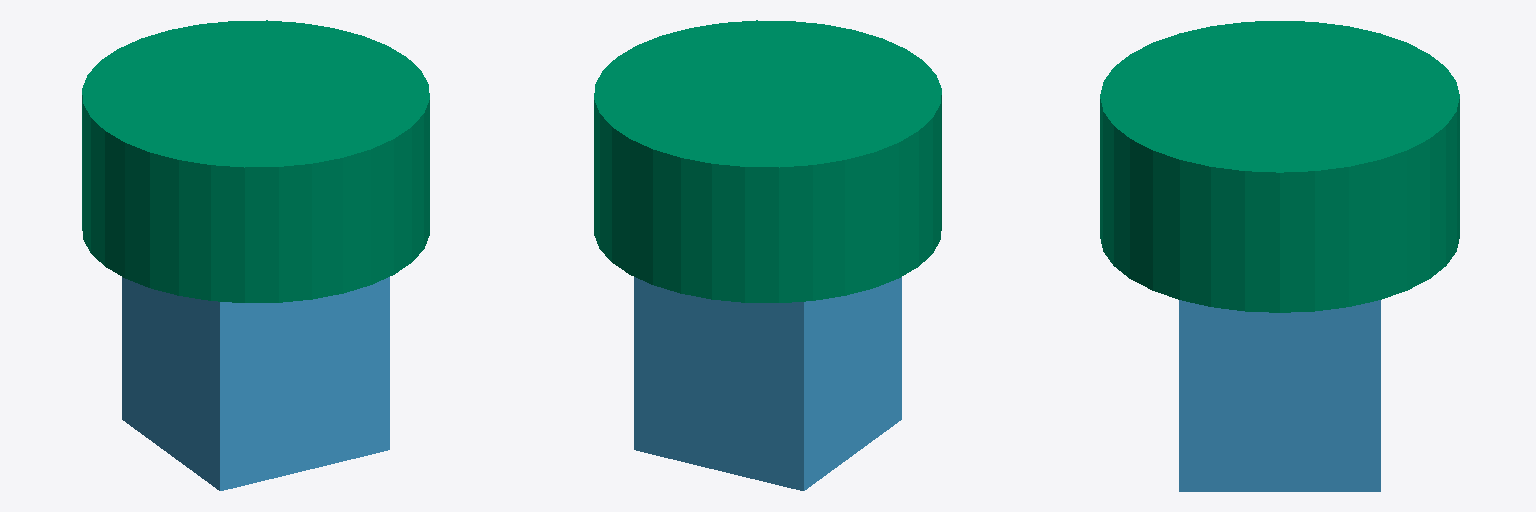
The robot description file, URDF, robot "candidate-1":
<?xml version="1.0"?>
<!-- 由 freecad-ai-parts 生成（ADR-0035）：长度单位 m，角度单位 rad；未写 inertial（无整件惯性数据） -->
<robot name="candidate-1">
  <link name="base"/>
  <!-- motor: servo_motor.yaskawa-electric-corporation.sgm7j-02a-6（Yaskawa Electric Corporation SGM7J-02A（轴端代码 6））；质量 0.8 kg -->
  <link name="motor">
    <visual><origin xyz="0.0 0.0 -0.03475" rpy="0.0 0.0 0.0"/><geometry><box size="0.06 0.06 0.0695"/></geometry></visual>
    <collision><origin xyz="0.0 0.0 -0.03475" rpy="0.0 0.0 0.0"/><geometry><box size="0.06 0.06 0.0695"/></geometry></collision>
    <visual><origin xyz="0.0 0.0 0.015" rpy="0.0 0.0 0.0"/><geometry><cylinder radius="0.007" length="0.03"/></geometry></visual>
    <collision><origin xyz="0.0 0.0 0.015" rpy="0.0 0.0 0.0"/><geometry><cylinder radius="0.007" length="0.03"/></geometry></collision>
  </link>
  <joint name="motor_mount" type="fixed"><parent link="base"/><child link="motor"/><origin xyz="0.0 0.0 0.0" rpy="0.0 0.0 0.0"/></joint>
  <!-- reducer: reducer.harmonic-drive-llc.csf-25-100-2uh（Harmonic Drive LLC CSF-25-100-2UH）；质量 1.5 kg -->
  <link name="reducer">
    <visual><origin xyz="0.0 0.0 0.023" rpy="0.0 0.0 0.0"/><geometry><cylinder radius="0.0535" length="0.046"/></geometry></visual>
    <collision><origin xyz="0.0 0.0 0.023" rpy="0.0 0.0 0.0"/><geometry><cylinder radius="0.0535" length="0.046"/></geometry></collision>
  </link>
  <joint name="reducer_mount" type="fixed"><parent link="base"/><child link="reducer"/><origin xyz="0.0 0.0 0.0" rpy="0.0 0.0 0.0"/></joint>
  <link name="output"/>
  <joint name="output_joint" type="continuous"><parent link="reducer"/><child link="output"/><origin xyz="0.0 0.0 0.046" rpy="0.0 0.0 0.0"/><axis xyz="0 0 1"/></joint>
</robot>

--- What the picture shows (computed from the rendered views, not written in the file) ---
The picture shows the robot from 3 angles, left to right: view 1: azimuth 30°, elevation 25°; view 2: azimuth 150°, elevation 25°; view 3: azimuth 270°, elevation 25°; orthographic projection.
Model candidate-1 with 4 links and 3 joints (1 continuous, 2 fixed), rooted at base, posed all joints at 0.
Visible links, largest first — view 1: reducer, motor; view 2: reducer, motor; view 3: reducer, motor.
Link boxes in pixels (box(x1,y1,x2,y2)): reducer: box(82, 20, 429, 302); motor: box(122, 277, 389, 490); reducer: box(594, 20, 941, 302); motor: box(634, 277, 901, 490); reducer: box(1100, 21, 1459, 312); motor: box(1179, 300, 1380, 491).
Bounding box of the posed robot: 0.107 × 0.107 × 0.1155 m (x, y, z).
Geometry: primitives only (box / cylinder / sphere), no mesh files.
